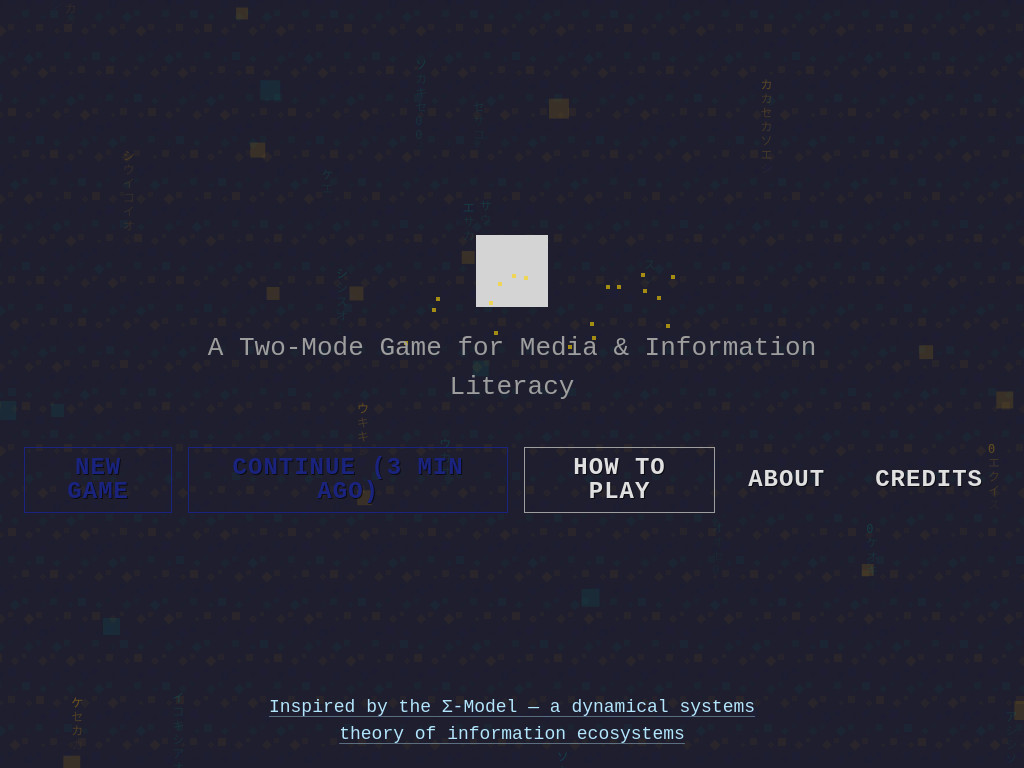
Test: TitleScreen › shows corrupt save modal when Continue fails
Step 1. Click the button "Continue (3 min ago)" → [348, 480], box x1=188 y1=447 x2=508 y2=513
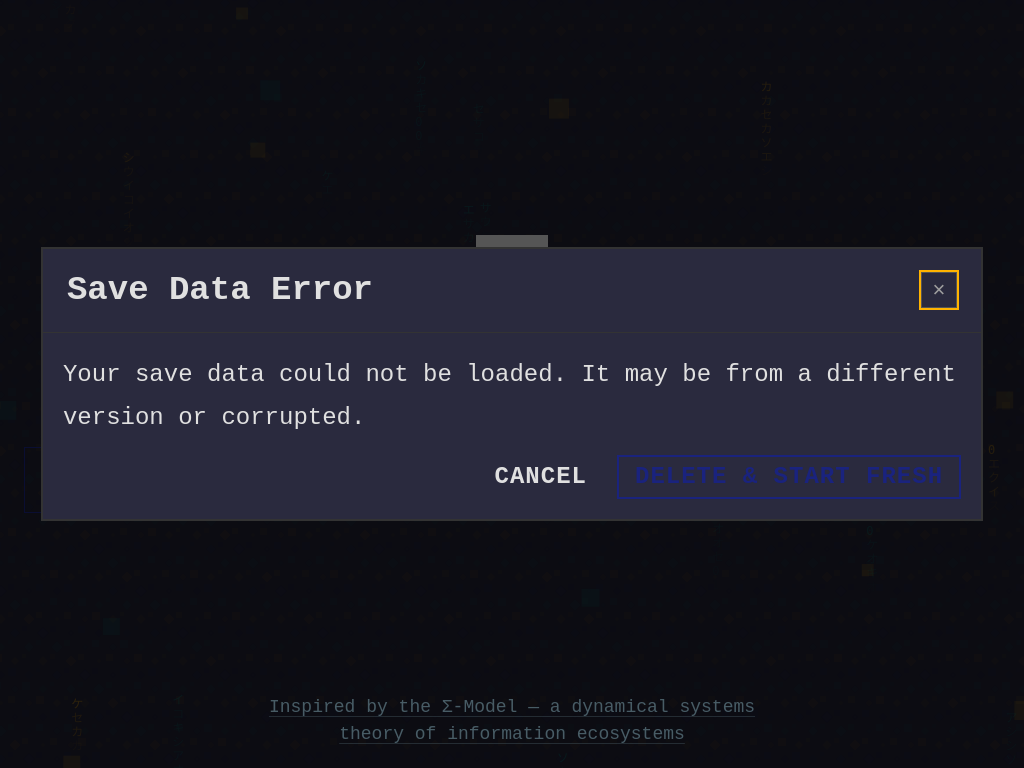
Expected: the heading "Save Data Error" is shown, x1=67 y1=265 x2=373 y2=316
Expected: the text "could not be loaded" is shown, x1=63 y1=361 x2=956 y2=431
